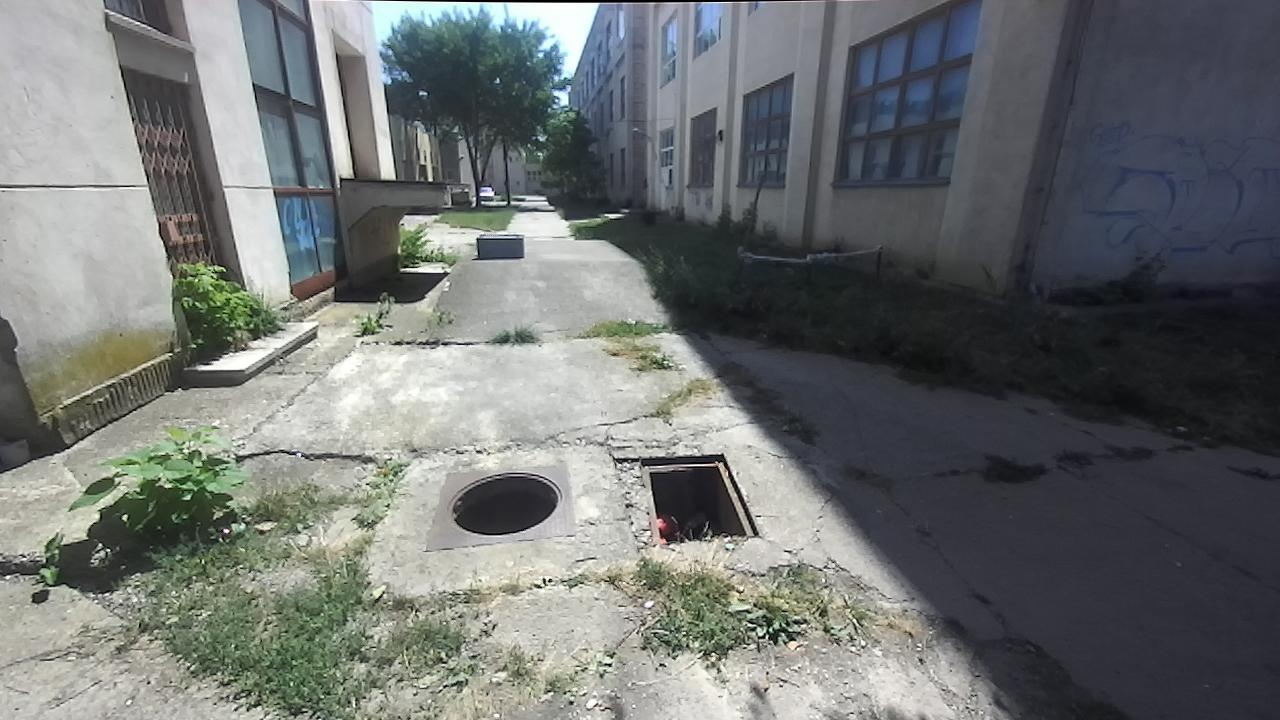drain: (633, 450, 768, 551), (442, 468, 571, 535)
